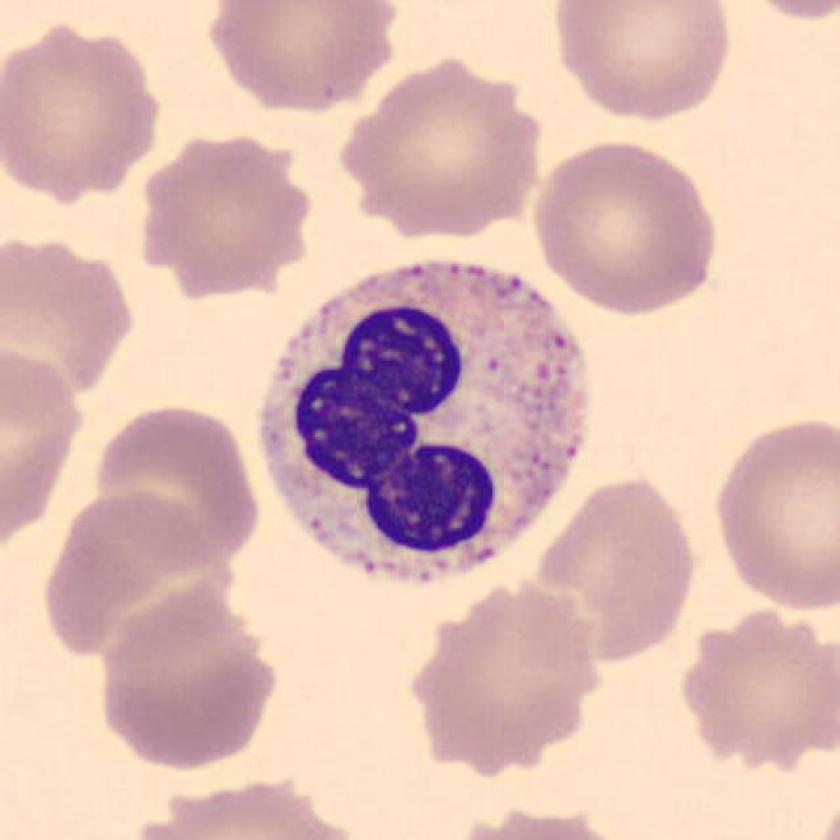neutrophil: (260, 259, 587, 576)
